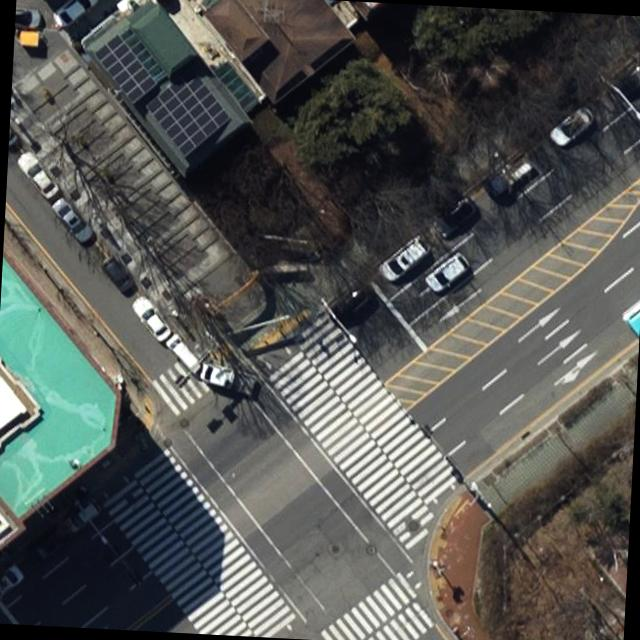solar: (139, 65, 236, 162), (90, 31, 161, 106)
